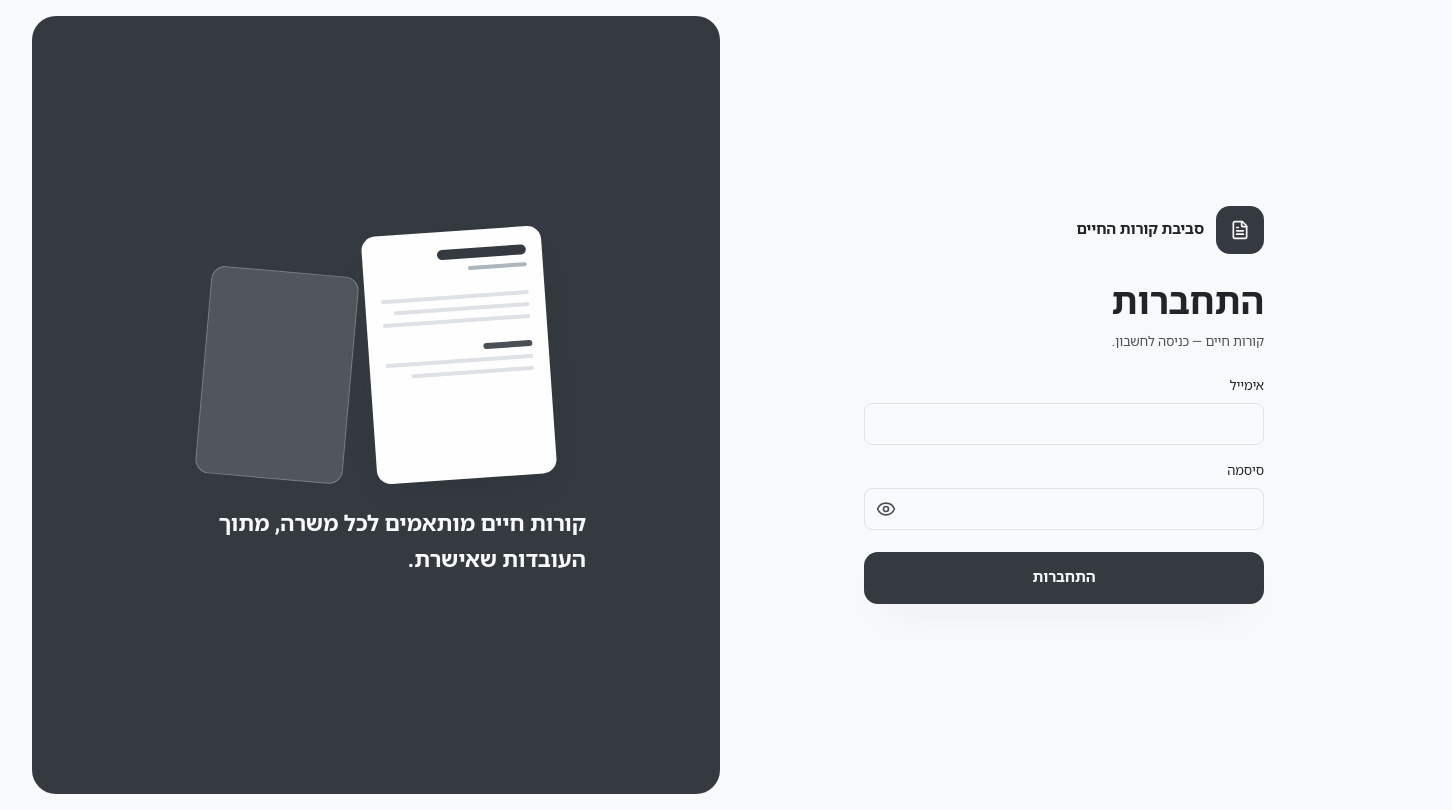
Test: sign-in › says the same thing for any failed sign-in and stays on the screen
Type "x@example.com" into the field labelled "אימייל" at (1064, 424), box [864,403,1264,445]
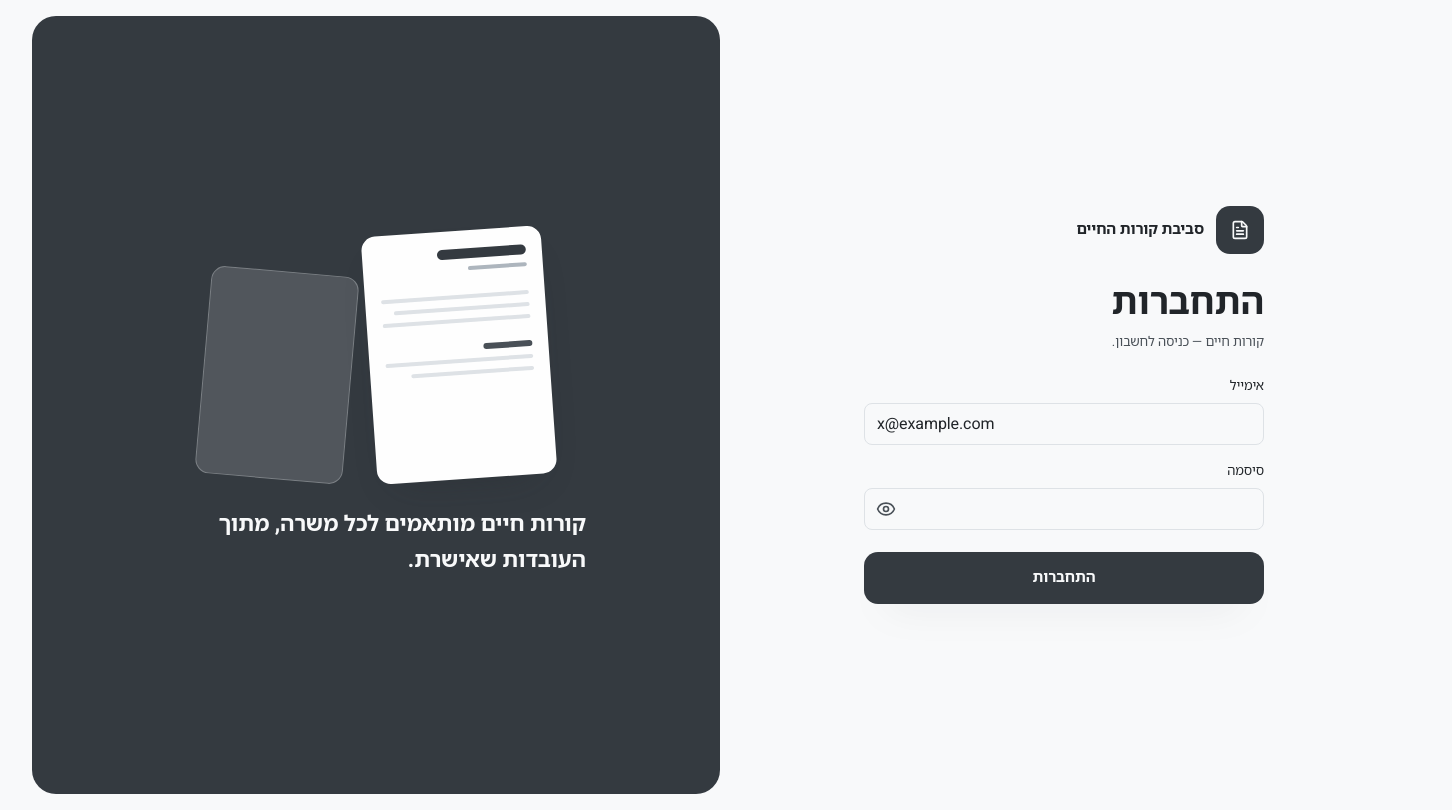
Type "wrong" into the password field labelled "סיסמה" at (1064, 509), box [864,488,1264,530]
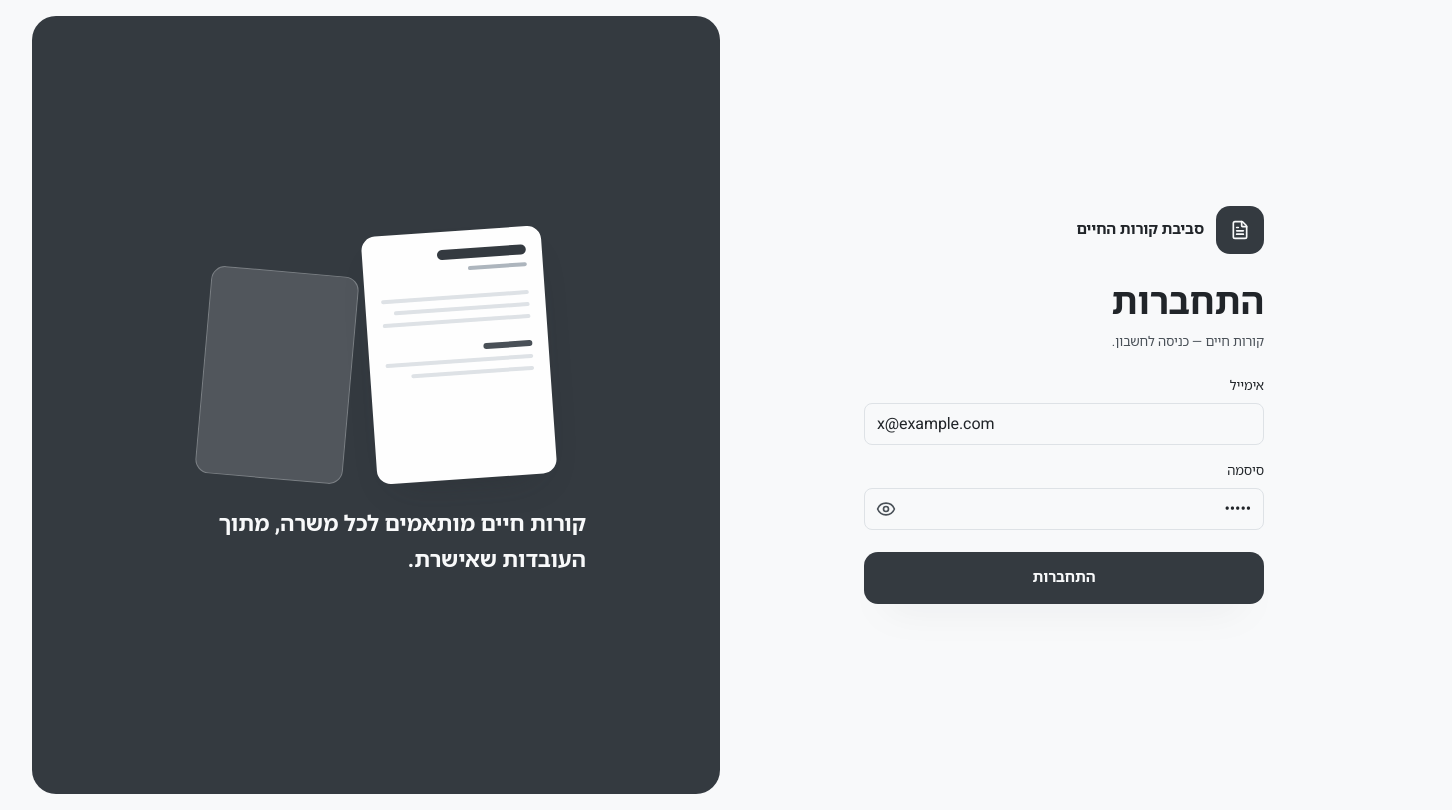
Click the button "התחברות" at (1064, 578), box [864,552,1264,604]
(page scrolled)
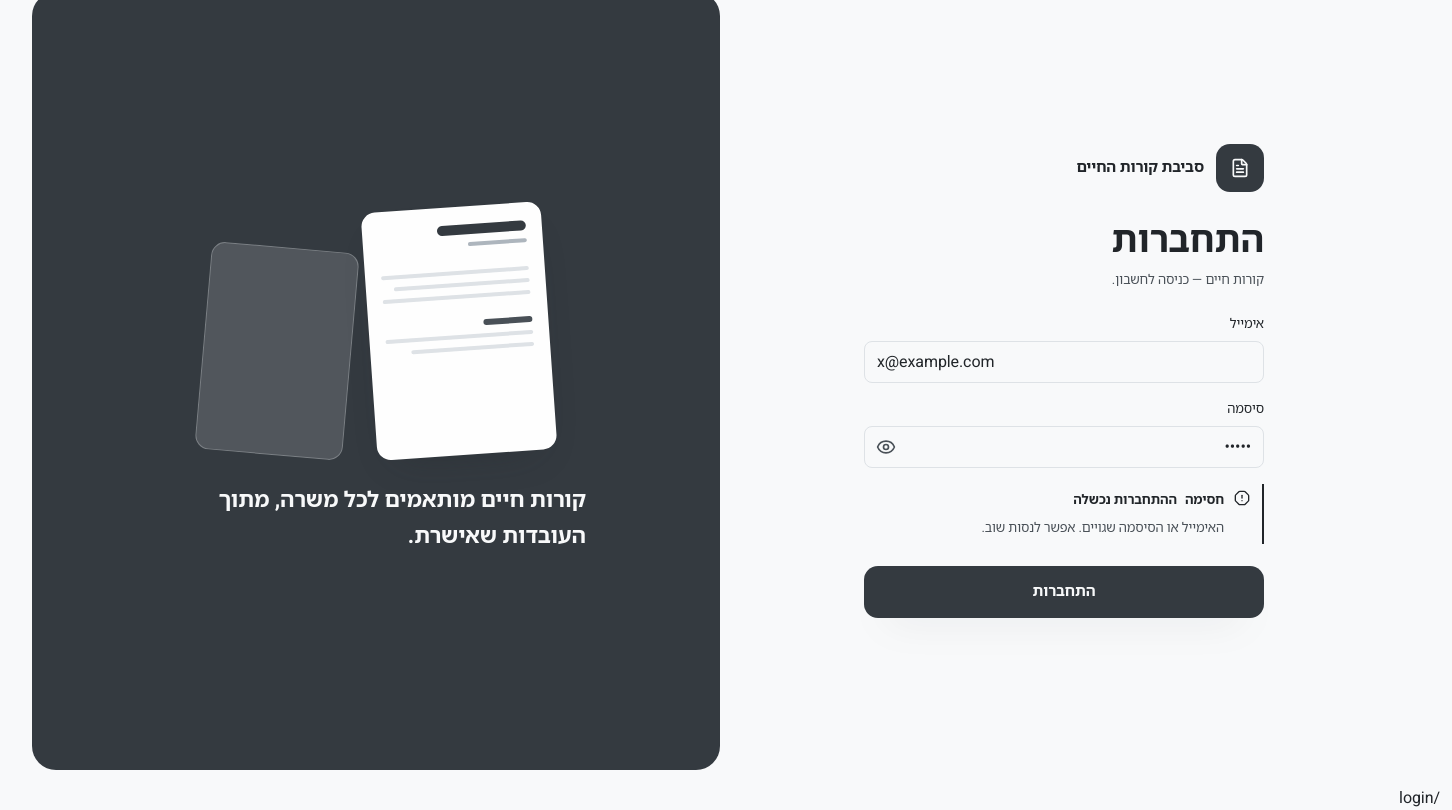
Expected: the text with test id "where" reads "/login", [1399,786,1440,809]
Expected: the text "ההתחברות נכשלה" is shown, [1073,488,1177,512]
Expected: the text "האימייל או הסיסמה שגויים. אפשר לנסות שוב." is shown, [981,518,1224,537]
